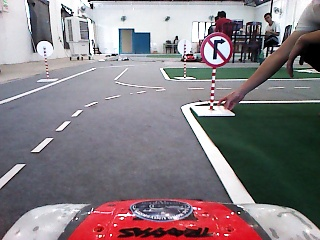ban_right: (201, 32, 233, 67)
